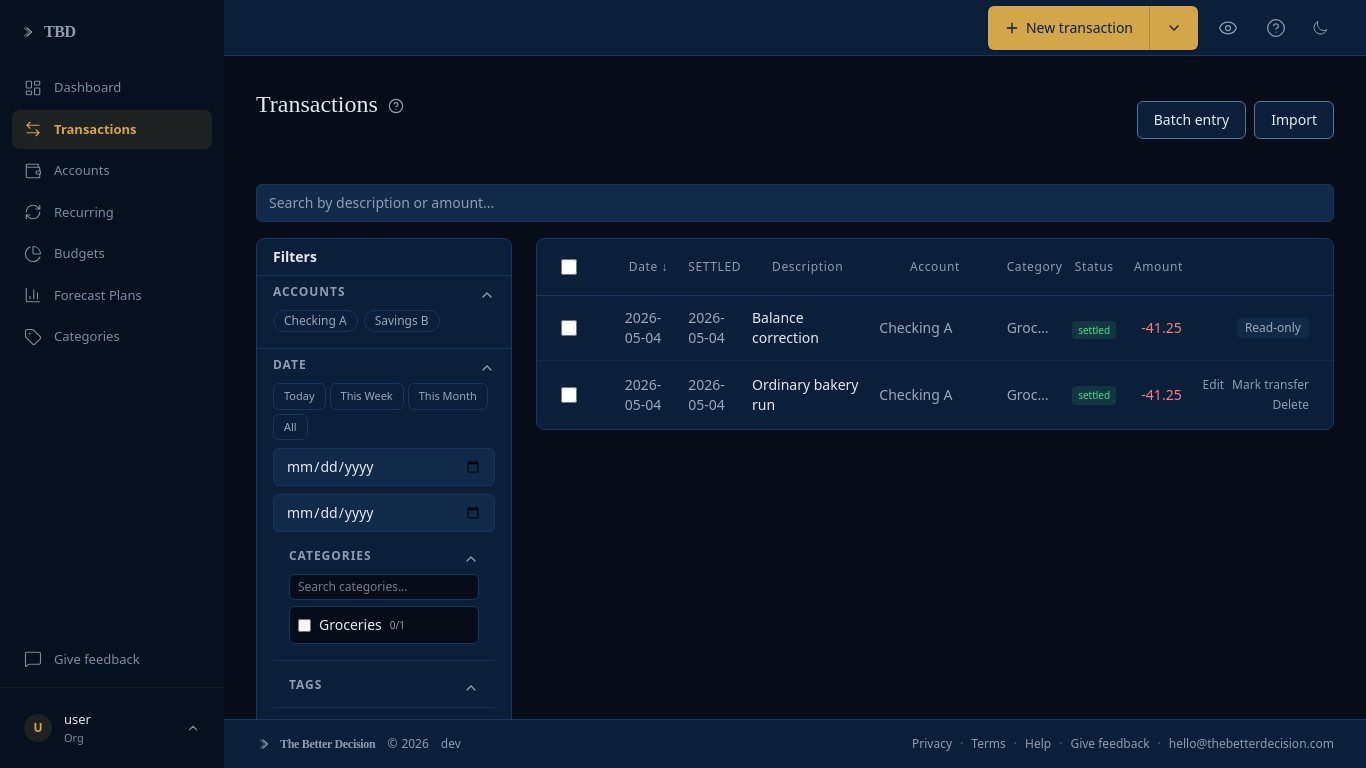
Test case: TBD-387 — manual balance adjustment affordances › F5: says why in BOTH slots — badge on desktop, prose on the card
Focus the text "Read-only": [1273, 328] box [1237,318,1309,338]
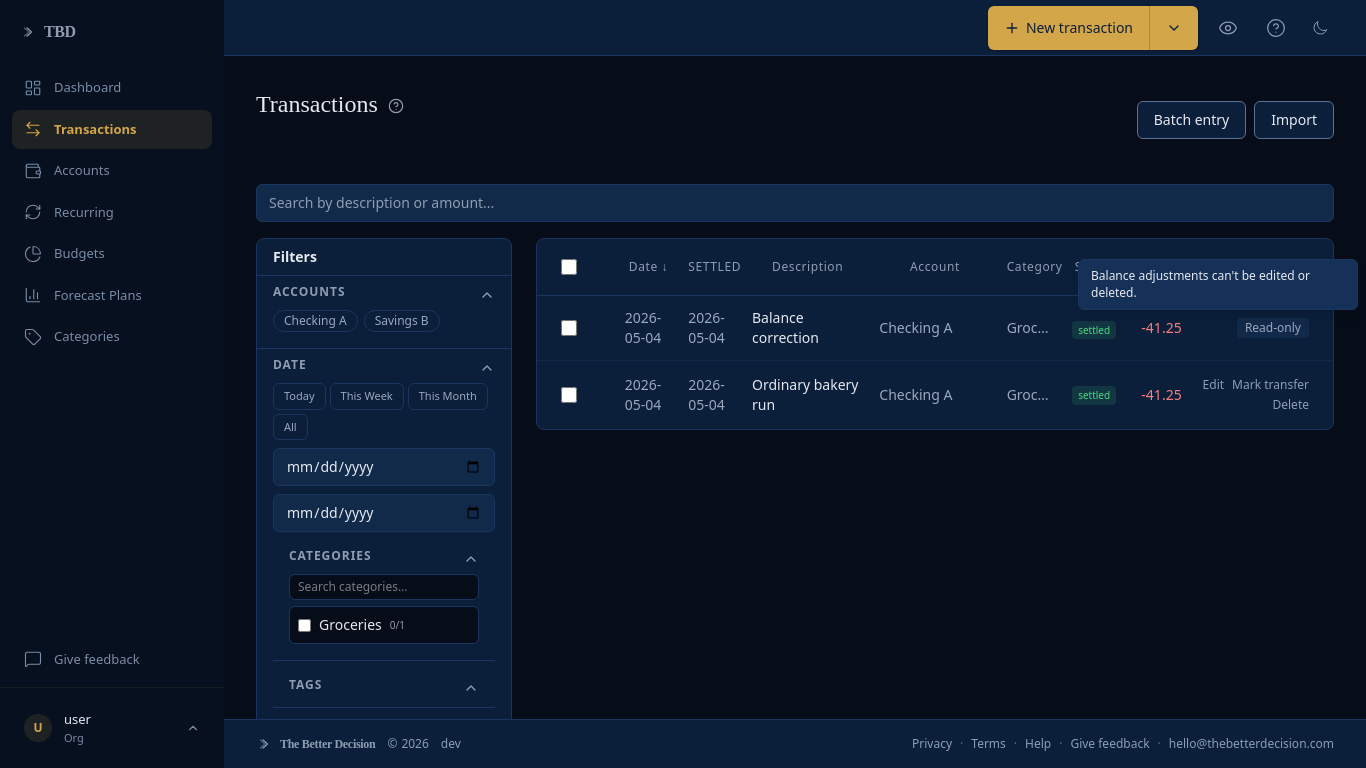
Result: the text "Balance adjustments can't be edited or deleted." is shown at [1091,268,1345,301]
